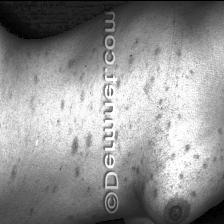Non-Cancerous Skin Condition: (121, 32, 187, 182), (70, 135, 78, 149), (68, 56, 76, 70), (86, 136, 92, 146), (60, 100, 64, 108)
